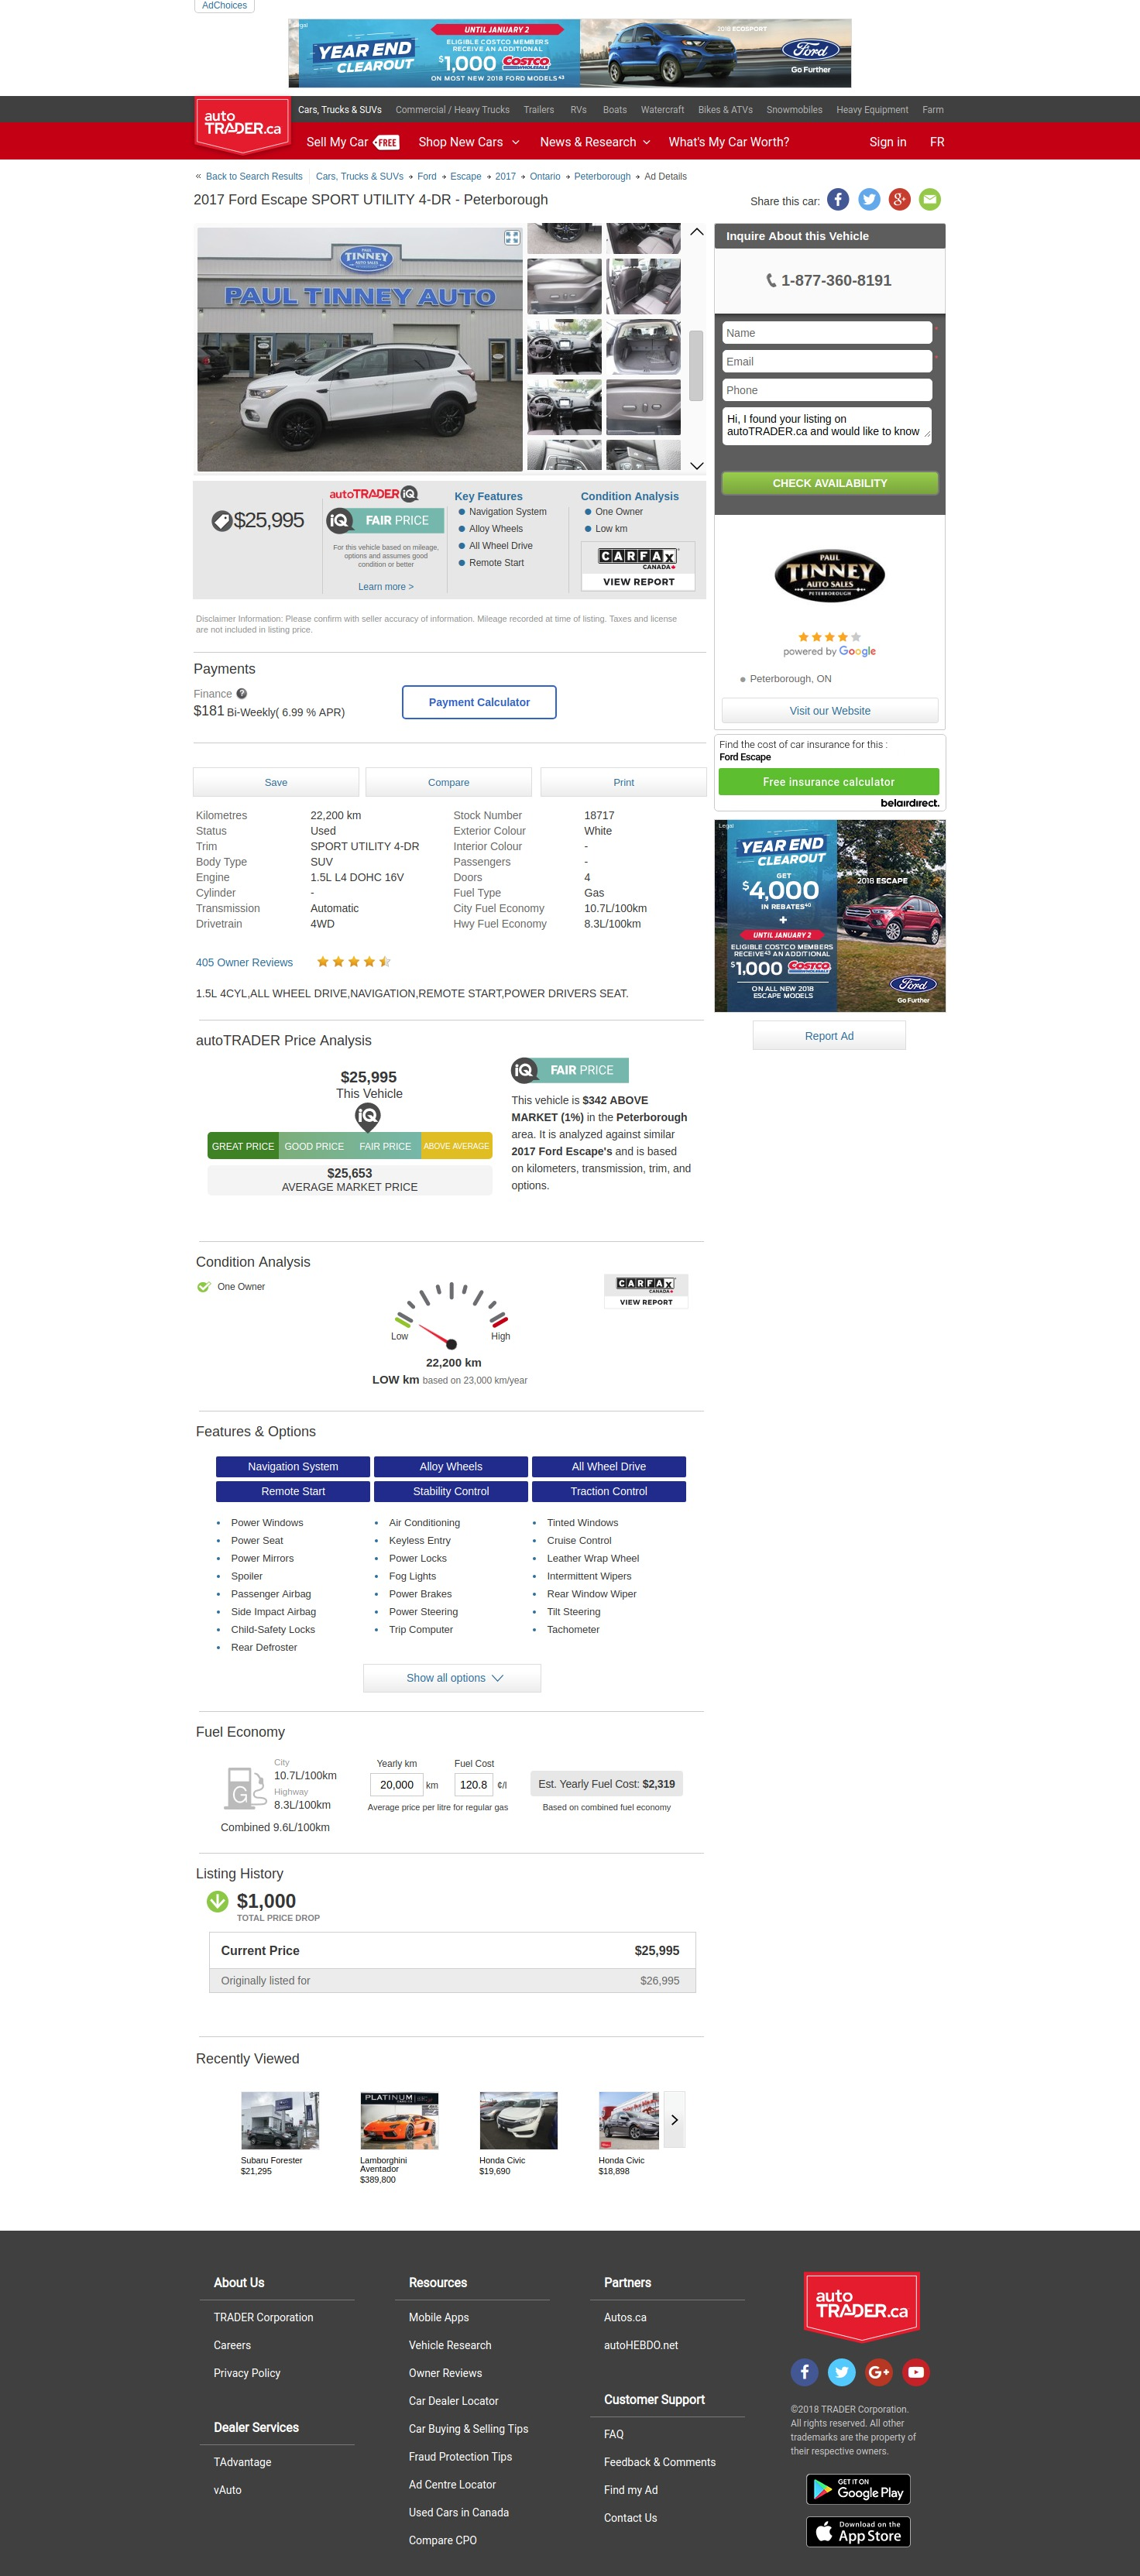car: (690, 460, 706, 471)
